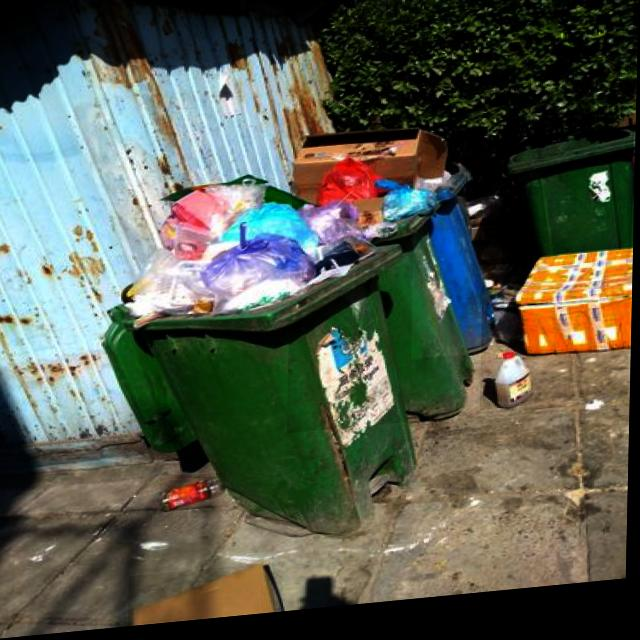garbage: (482, 259, 633, 420), (131, 568, 287, 628), (162, 477, 228, 516)
garbage_bin: (503, 139, 635, 270)
overflow: (101, 167, 425, 561), (289, 127, 480, 439), (413, 132, 502, 368)
